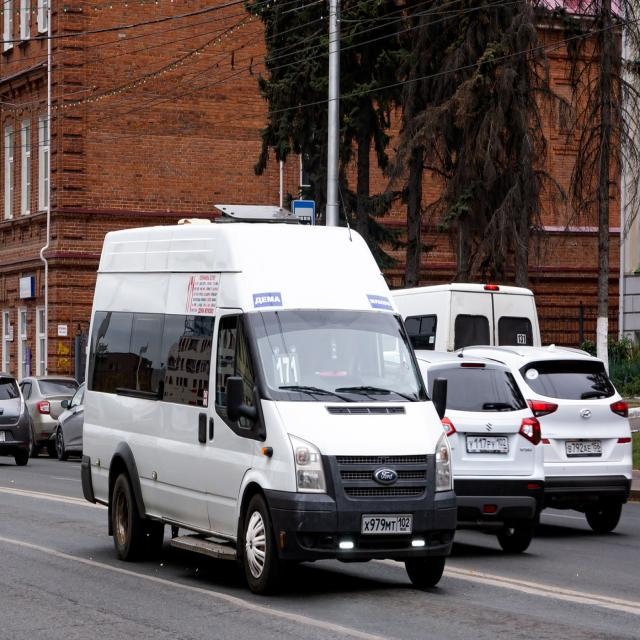number-of-bus: (275, 356, 301, 385), (185, 274, 197, 314)
